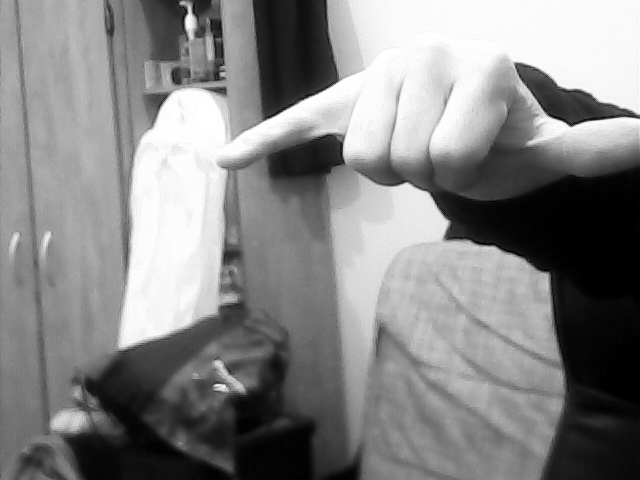aloha: (209, 28, 640, 210)
